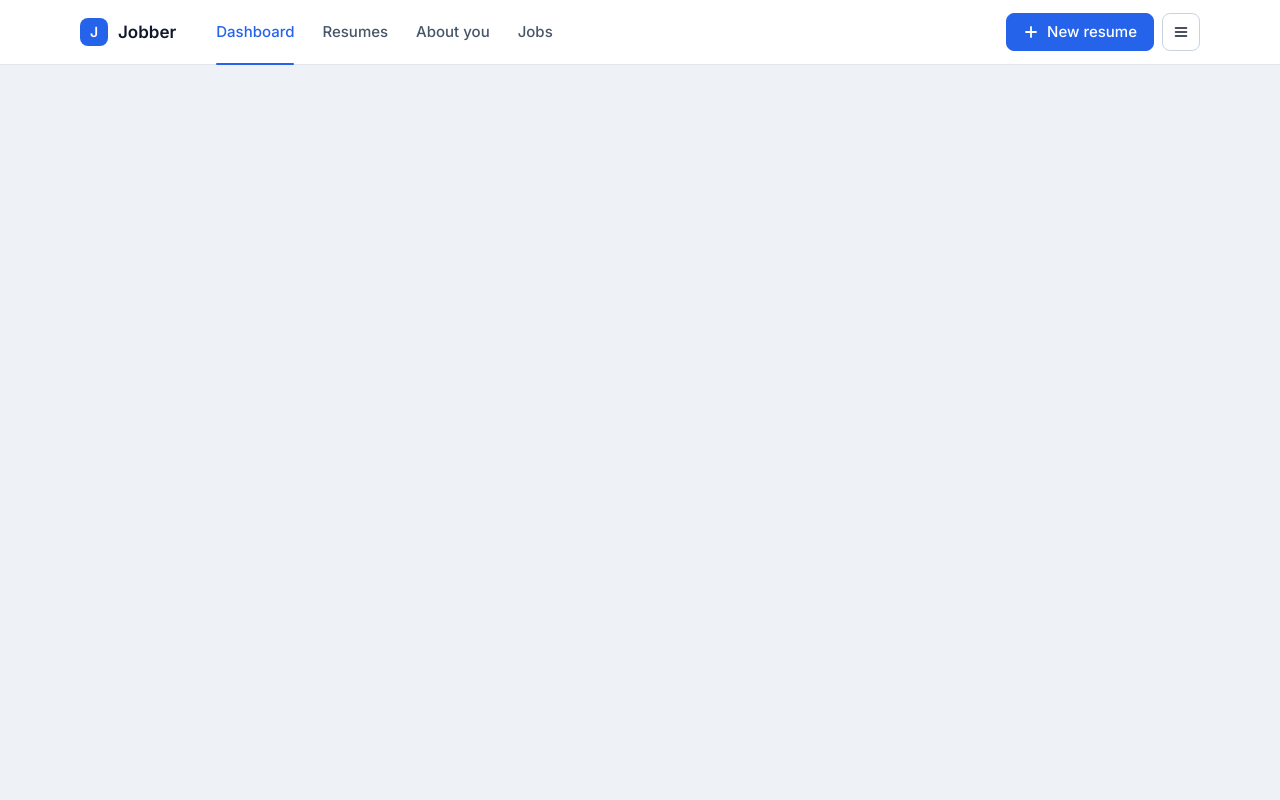
header and menu slider › opens the menu, then closes it with Esc and returns focus to the menu button
The width and height of the screenshot is (1280, 800).
Click the button named "Open menu": coordinates (1181, 32) [1162,13,1200,51]
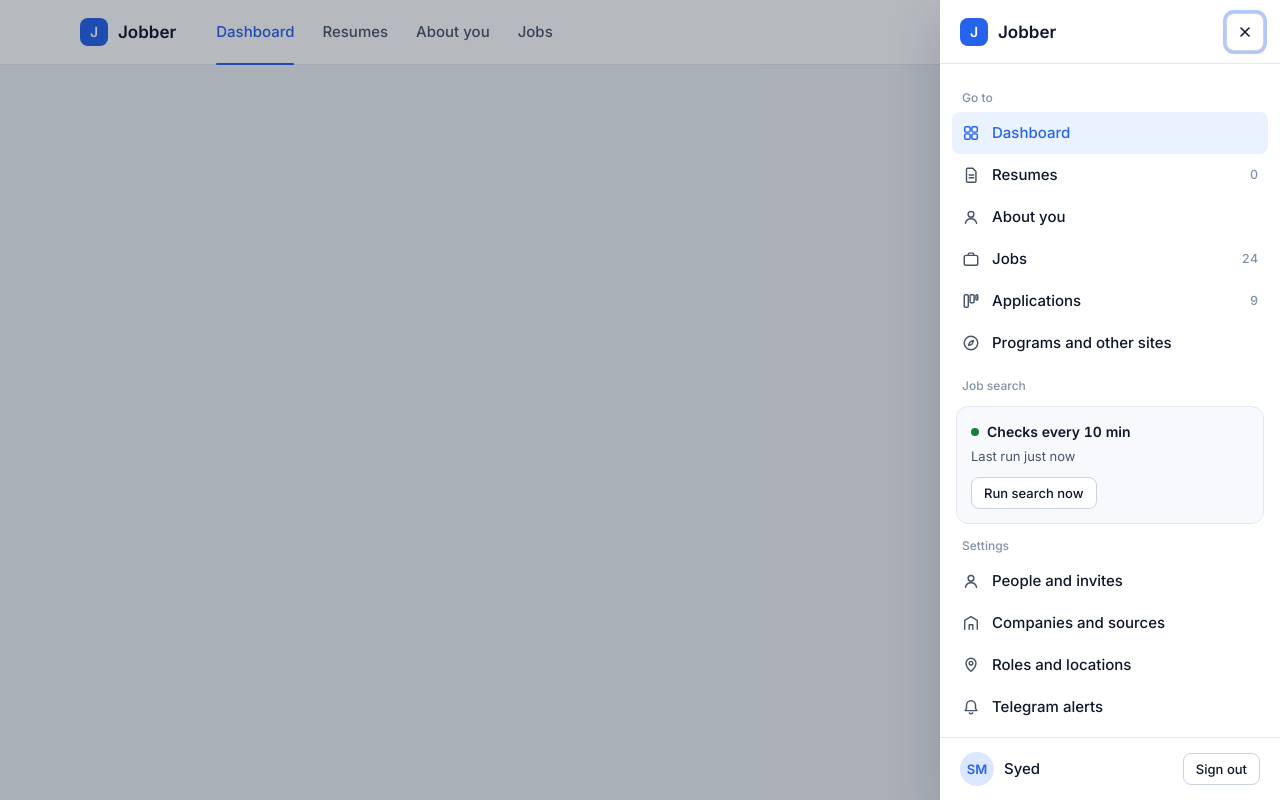
Press Escape
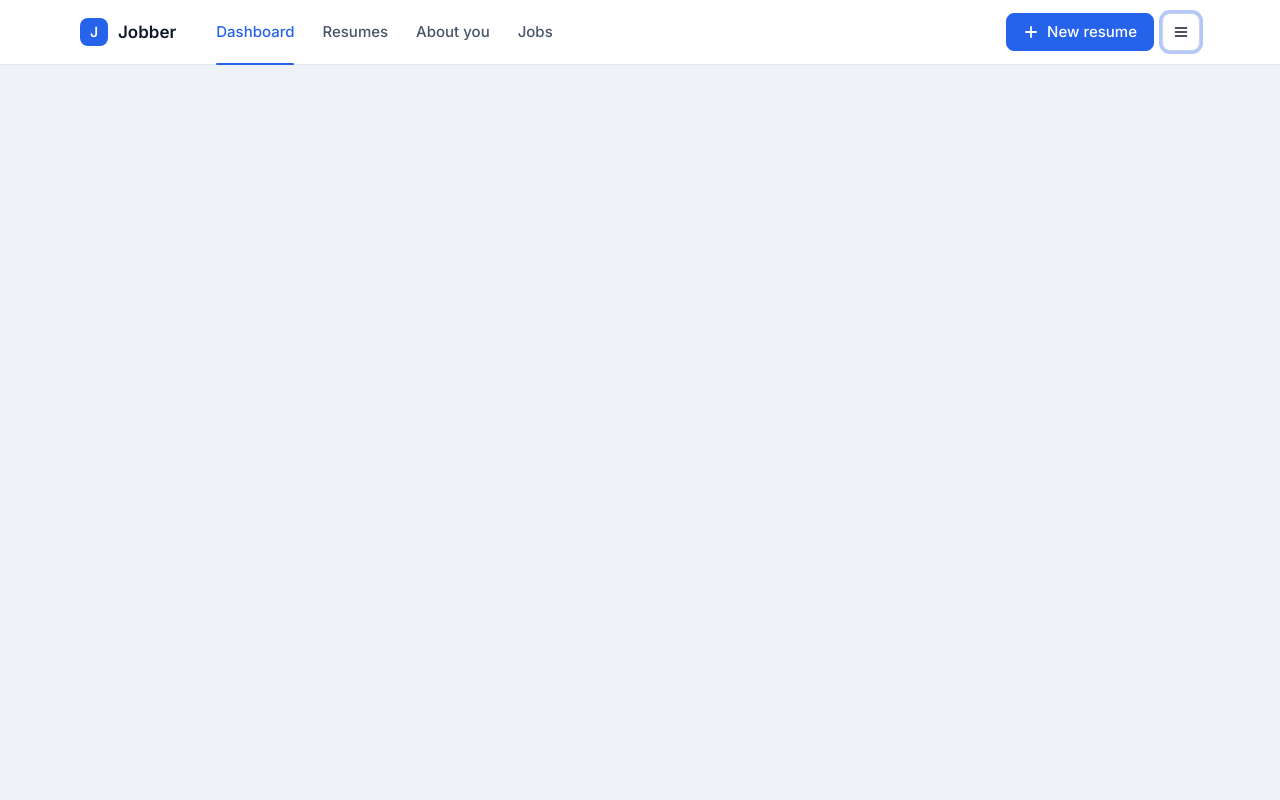
Expected: the button named "Open menu" is collapsed, [1162,13,1200,51]
